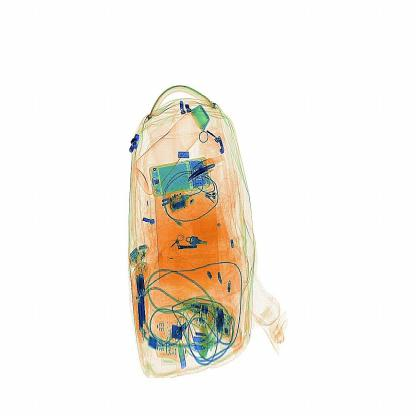pliers: (180, 160, 228, 188)
